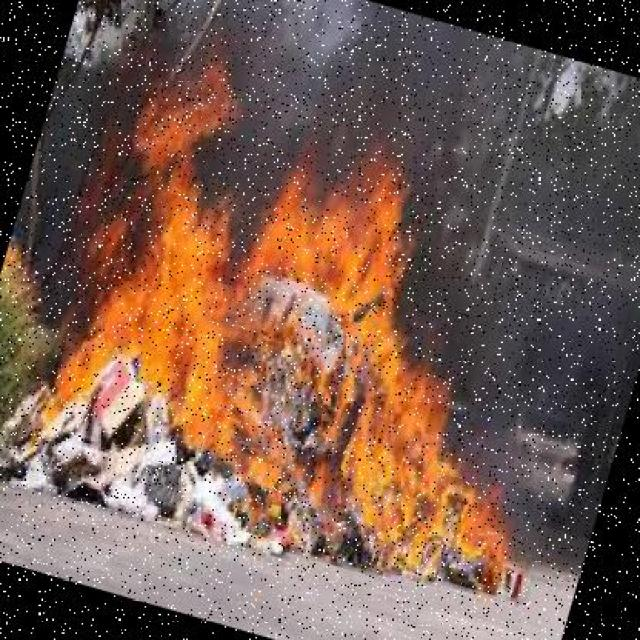fire: (206, 111, 626, 597), (21, 60, 308, 455)
